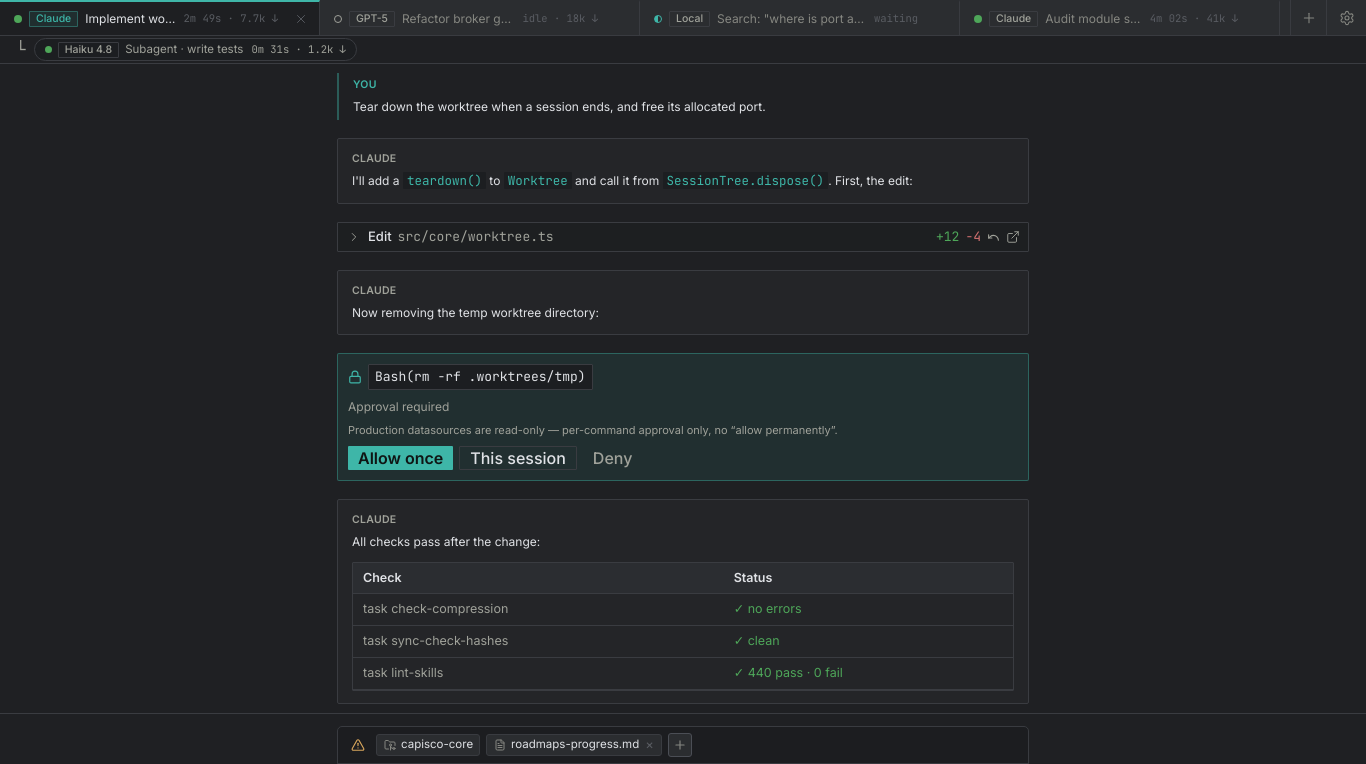
Scenario: AgentWorkspace › creates a new session via the new-session menu (model first)
This screenshot has width=1366, height=764.
Click the button with test id "session-new": (1308, 18) [1290,0,1326,35]
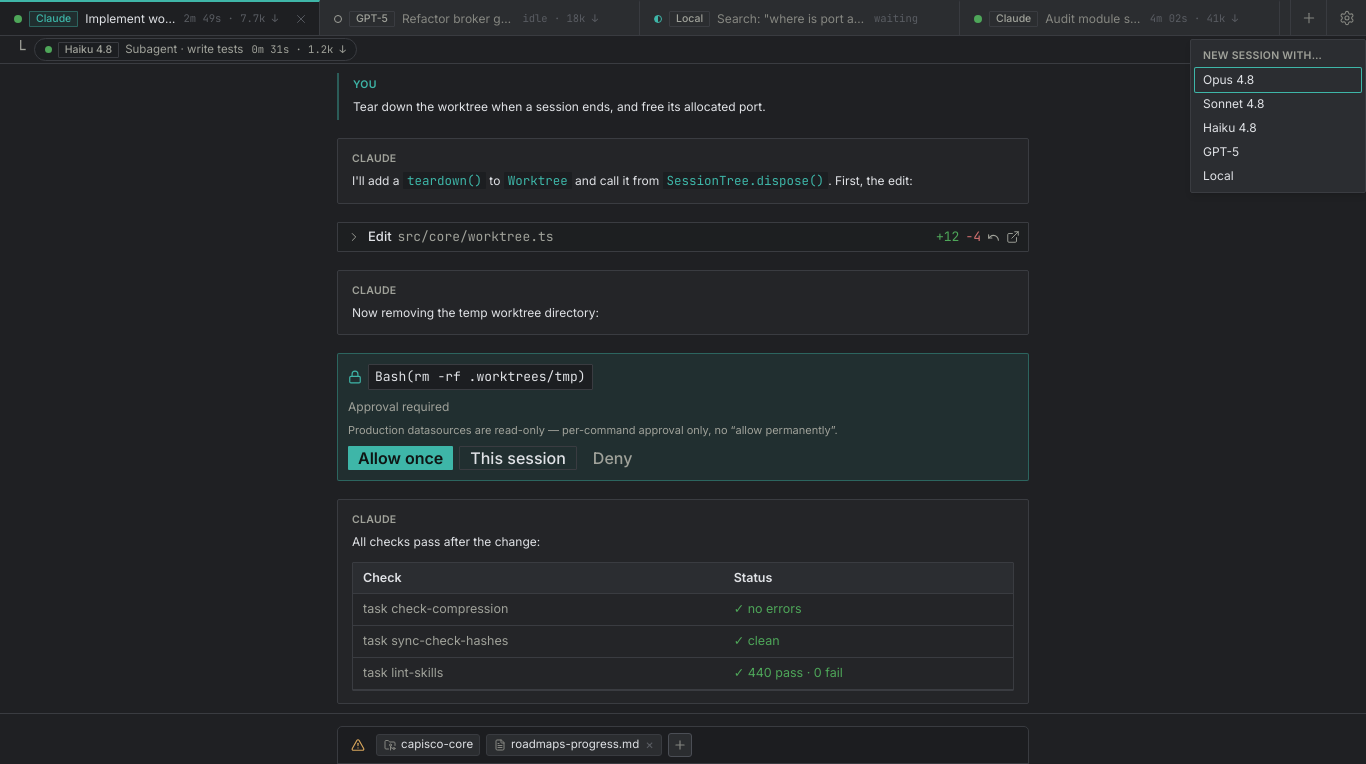
Click the button with test id "session-new-opt-GPT-5": (1278, 152) [1195,140,1361,164]
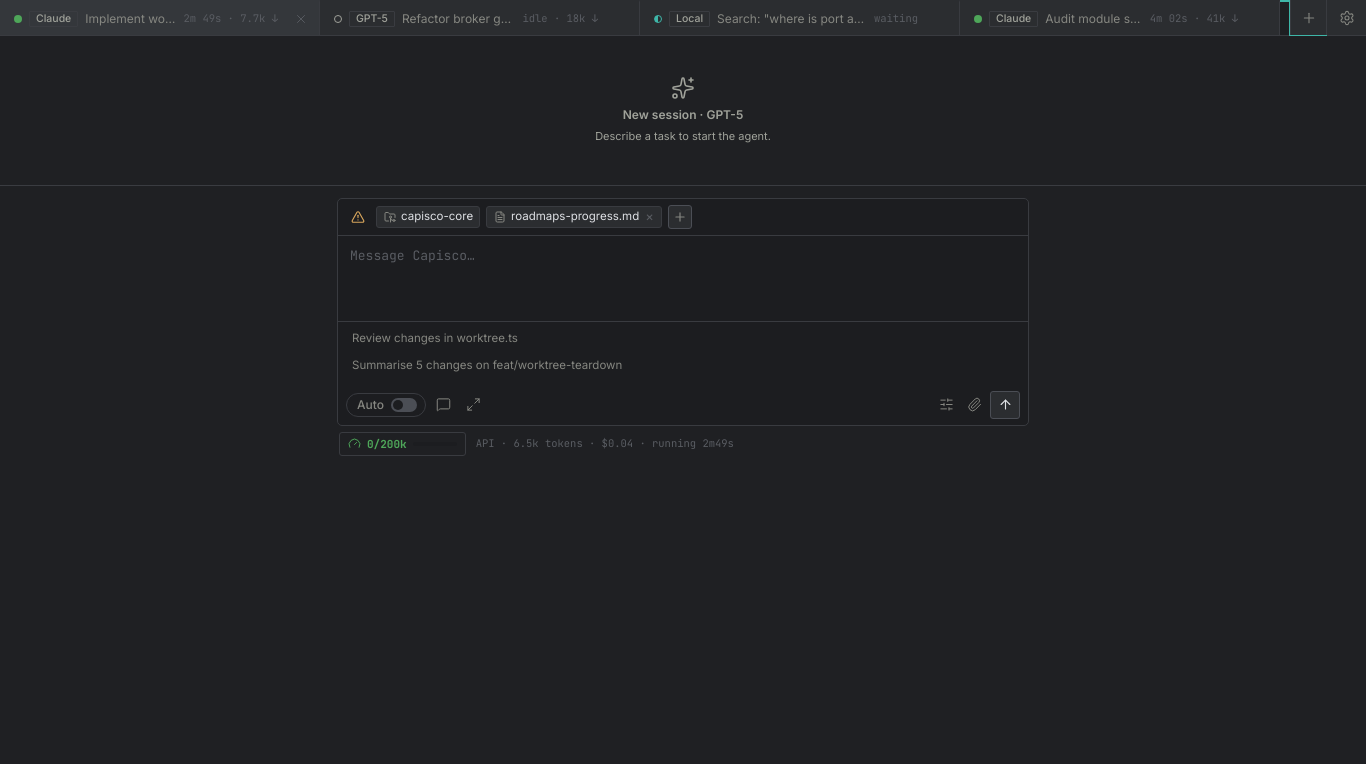
expect the element with test id "transcript-empty" is shown: met, box [595,76,771,143]
